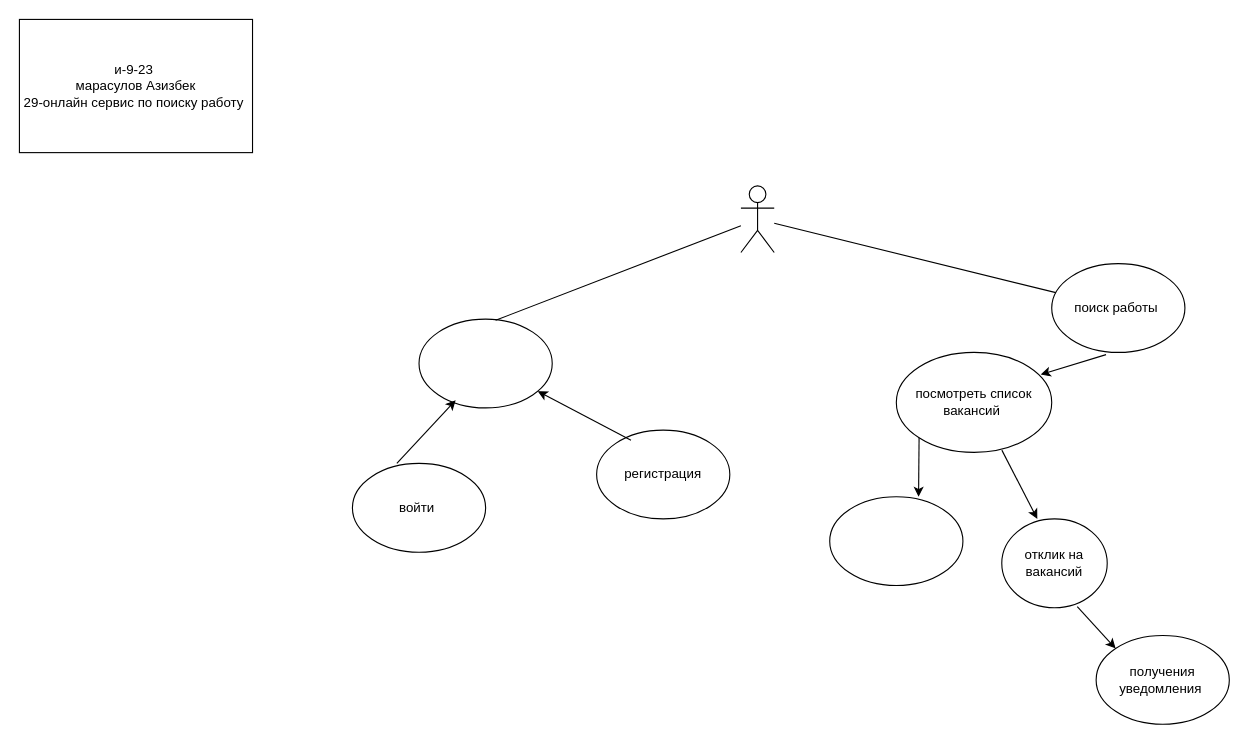
Image size: 1249x744. Some labels were removed from this diagram. The box of each missing label's shape, as (x1, y1, x2, y2) in pixels:
выход на прилажению: (418, 318, 552, 408)
подать вакансий: (829, 496, 963, 586)
пользователь: (740, 185, 774, 253)
